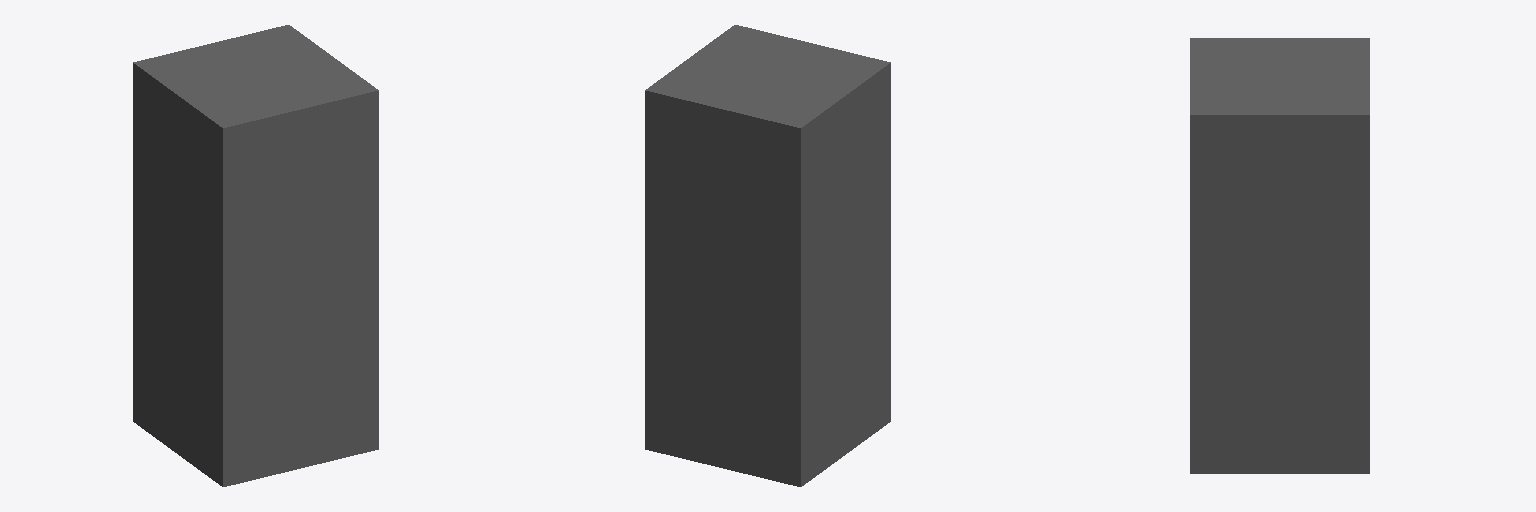
3 views of the same model, side by side, from view 1: azimuth 30°, elevation 25°; view 2: azimuth 150°, elevation 25°; view 3: azimuth 270°, elevation 25° (orthographic).
Visible parts, largest first — view 1: object 1; view 2: object 1; view 3: object 1.
Boxes of the visible parts, x1,y1,x2,y2 form: object 1: [133, 25, 378, 486]; object 1: [645, 25, 890, 486]; object 1: [1190, 38, 1369, 473].
Size of the model in its own units: 1 by 2.2 by 1.
Materials: 1 (1 with a texture image).